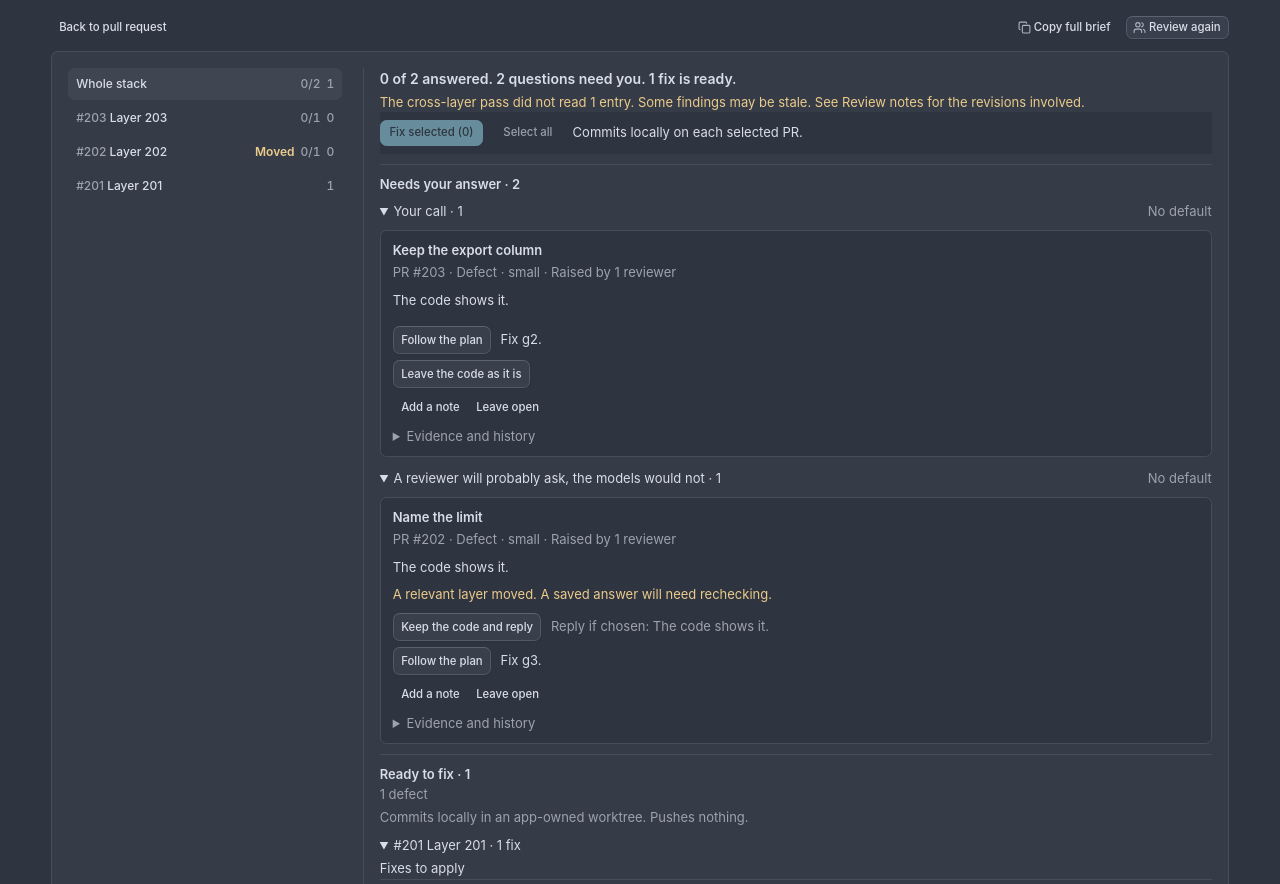
Test: shows a 409 saving an answer and reloads the card for the next attempt
Click the button "Follow the plan" next to "Fix g2.": click(442, 340) [393, 326, 490, 354]
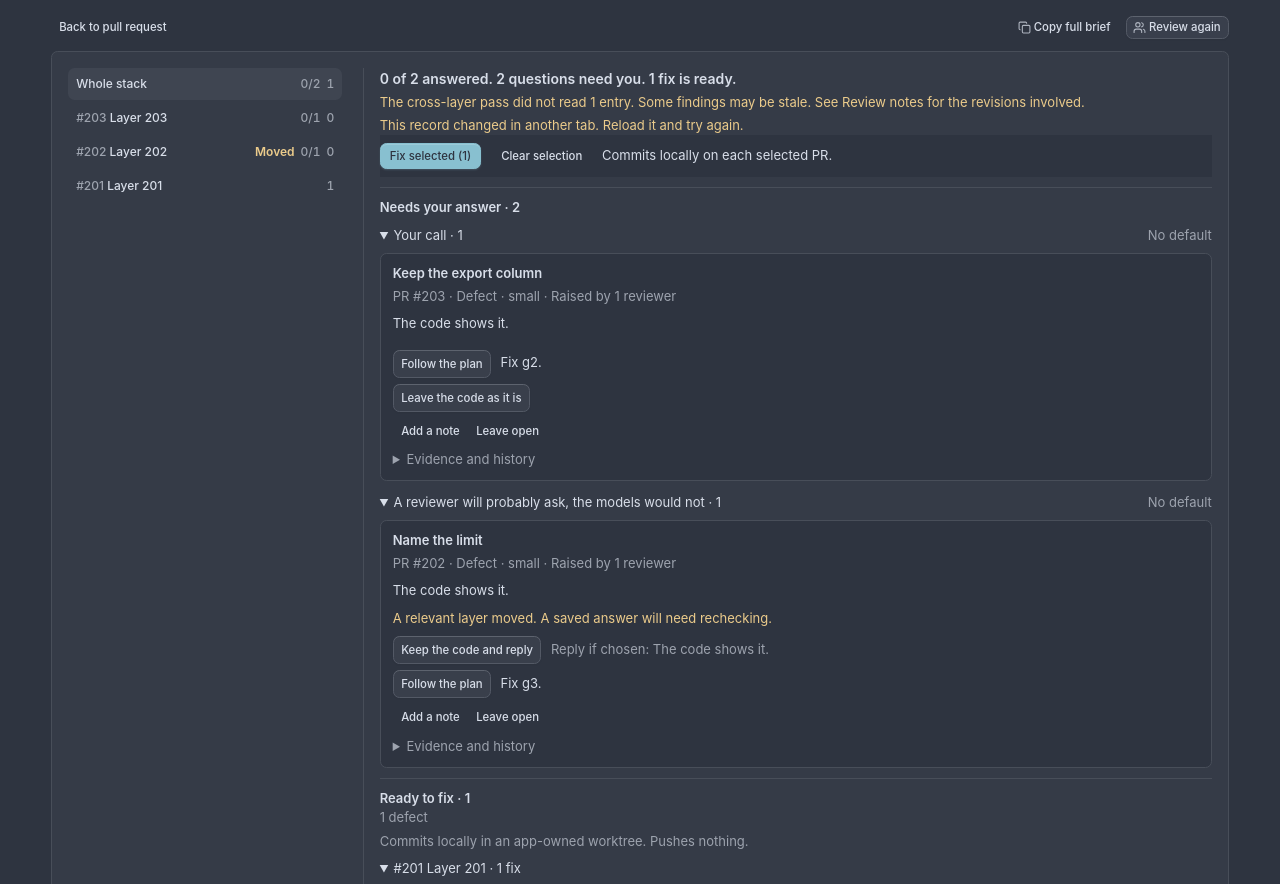
Check: the message shows "This record changed in another tab.", box [380, 117, 744, 133]
Click the button "Follow the plan" next to "Fix g2.": click(442, 364) [393, 350, 490, 378]
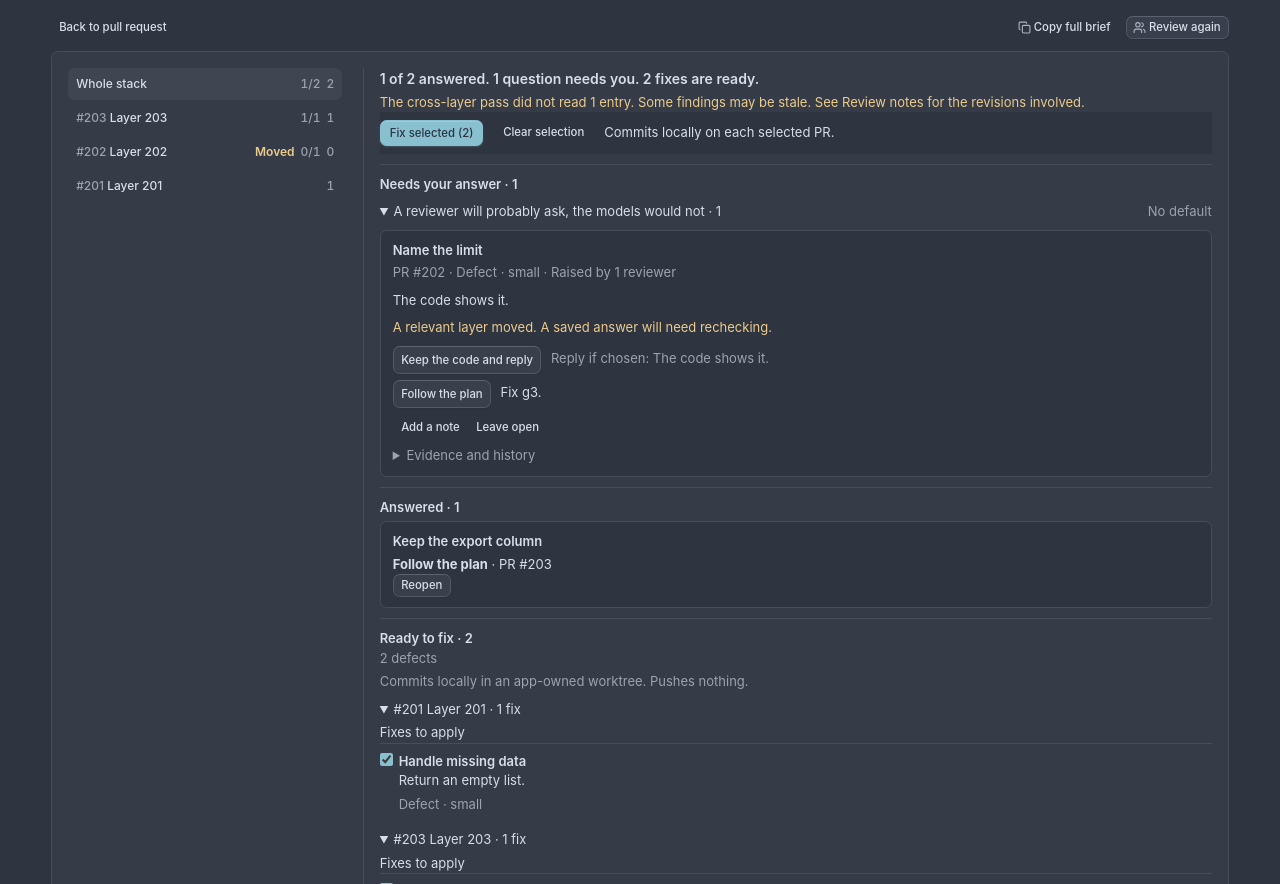
Check: the heading "Answered · 1" is shown, box [380, 499, 460, 515]
